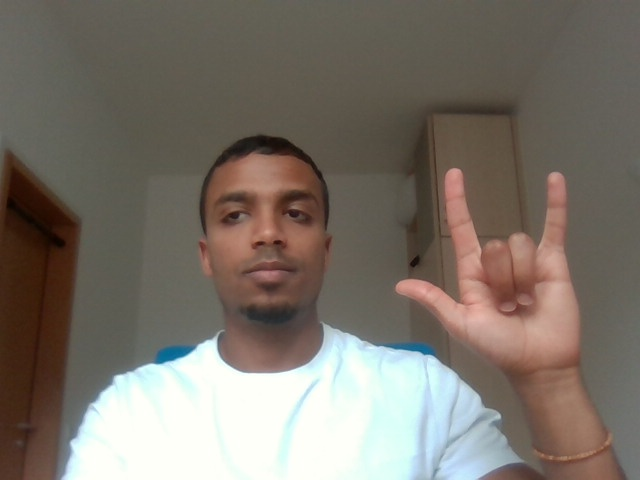absolutely: (377, 165, 615, 384)
